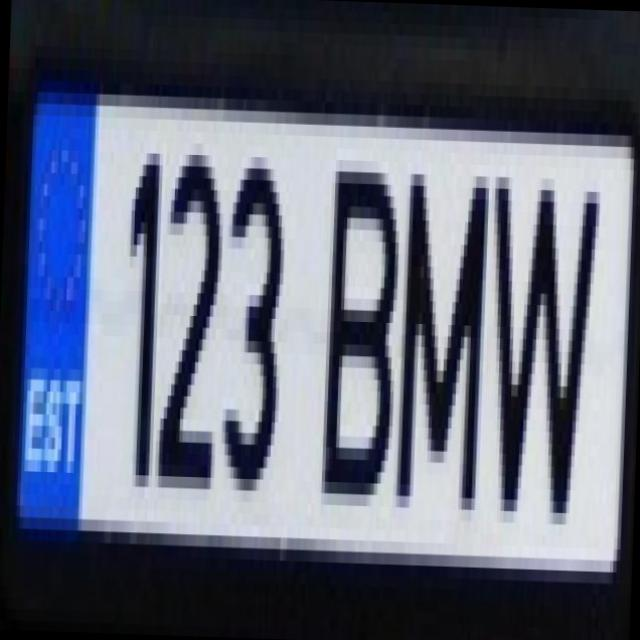LicensePlate: (13, 65, 640, 592)
